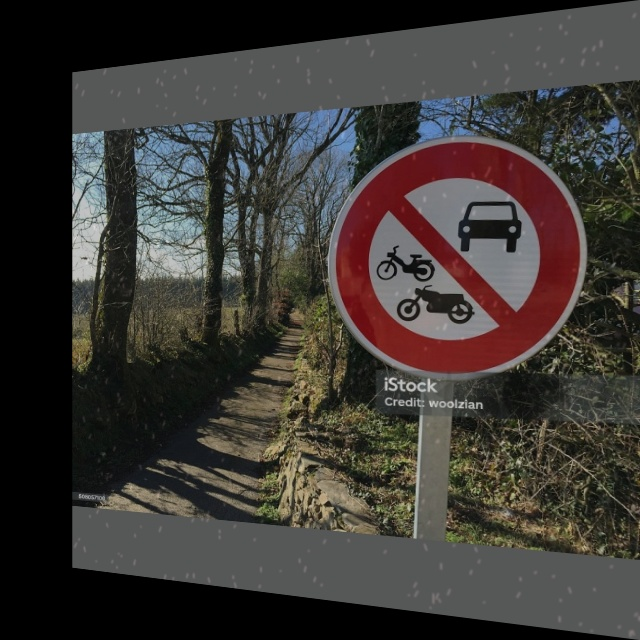All_Motor_Vehicles_Prohibited: (330, 125, 588, 375)
